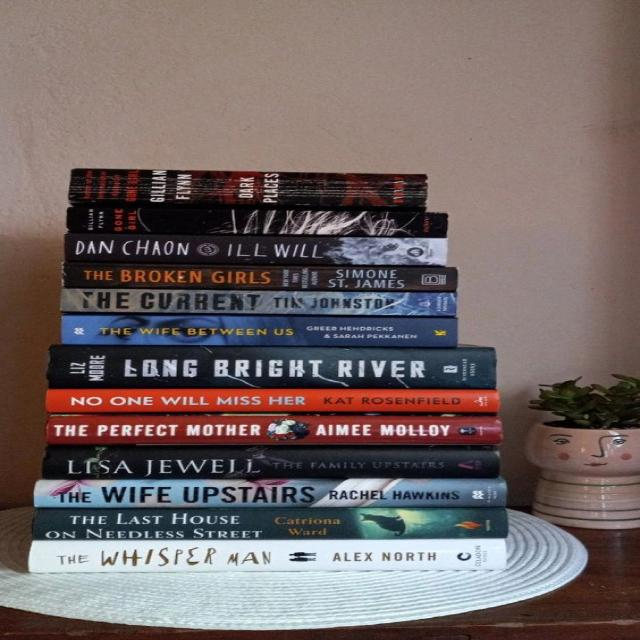book: (47, 347, 497, 389), (28, 540, 508, 573), (34, 508, 508, 541), (68, 168, 425, 207), (42, 449, 498, 478), (46, 417, 503, 445), (65, 233, 449, 266), (66, 206, 448, 238), (35, 481, 505, 507), (62, 316, 458, 345), (63, 262, 458, 290), (46, 389, 499, 412), (61, 289, 457, 315)
